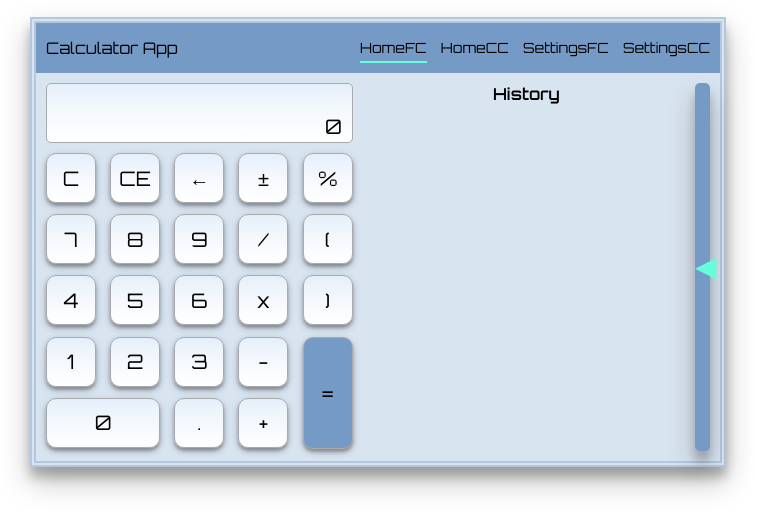
Test case: history › toggle visible the history
This screenshot has width=757, height=512.
Expected: the element with id "history" is shown, [493,83,560,104]
What coordinates should you click on to do the following:
click the button "◀"
I would click on:
 (703, 98)
Its box is [695,83,710,113].
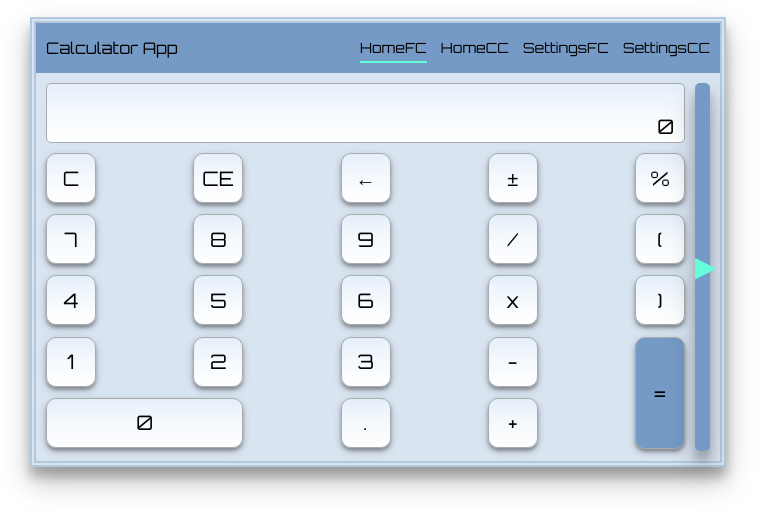
Expected: the element with id "history" is gone
What coordinates should you click on to do the following:
click the button "▶"
I would click on:
 (703, 98)
Its box is [695,83,710,113].
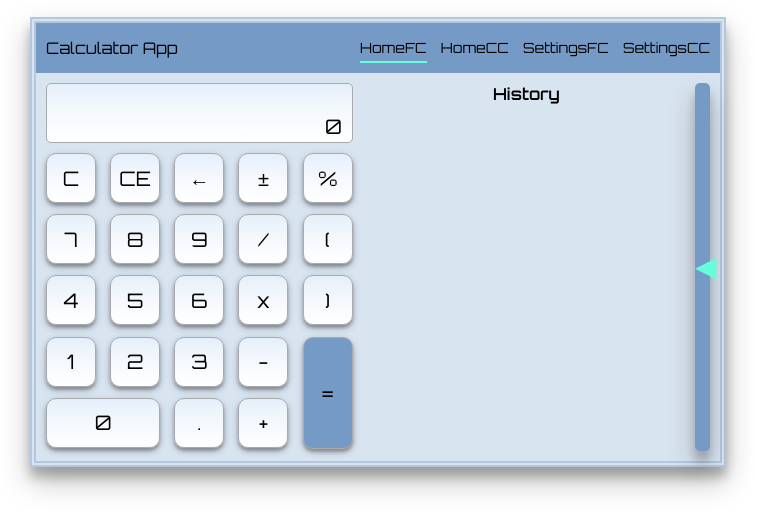
Expected: the element with id "history" is shown, [493,83,560,104]
